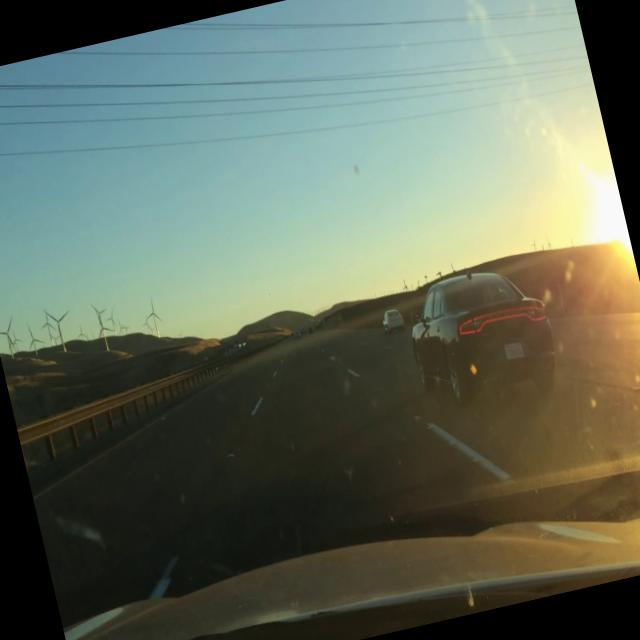Vehicle: (399, 260, 578, 430), (374, 297, 406, 340)
